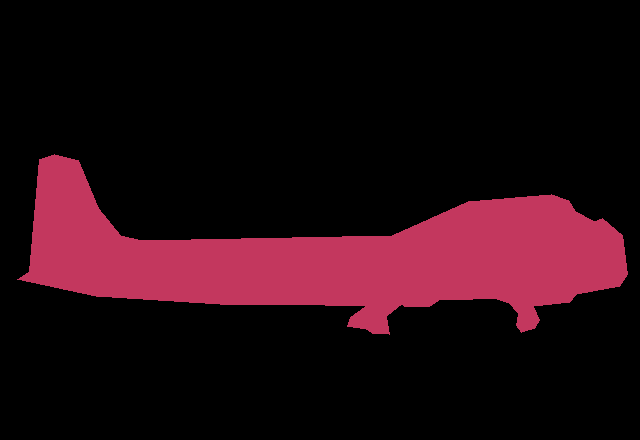Airplane: (17, 154, 628, 334)
